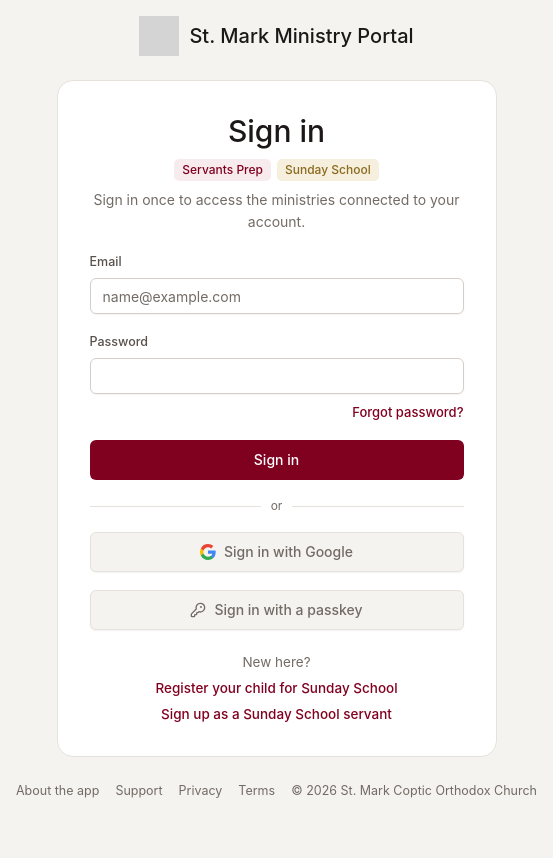
Test case: LoginPage › lets users return to password login after cancelling a passkey prompt
This screenshot has width=553, height=858.
Click the button "Sign in with a passkey" at x=276, y=610, box 90,590 -> 464,630
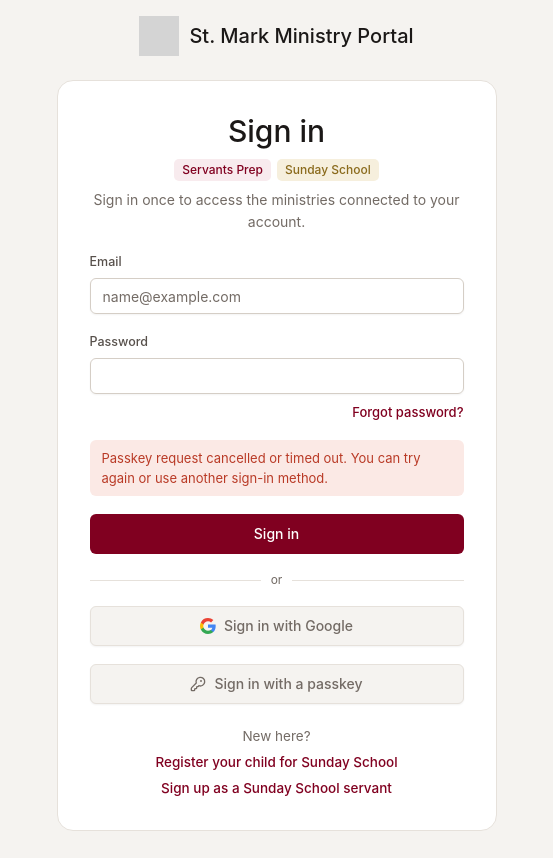
Expected: the button "Sign in" is enabled, 90,514 -> 464,554
Result: the text "Passkey request cancelled or timed out" is shown at 102,450 -> 420,486
